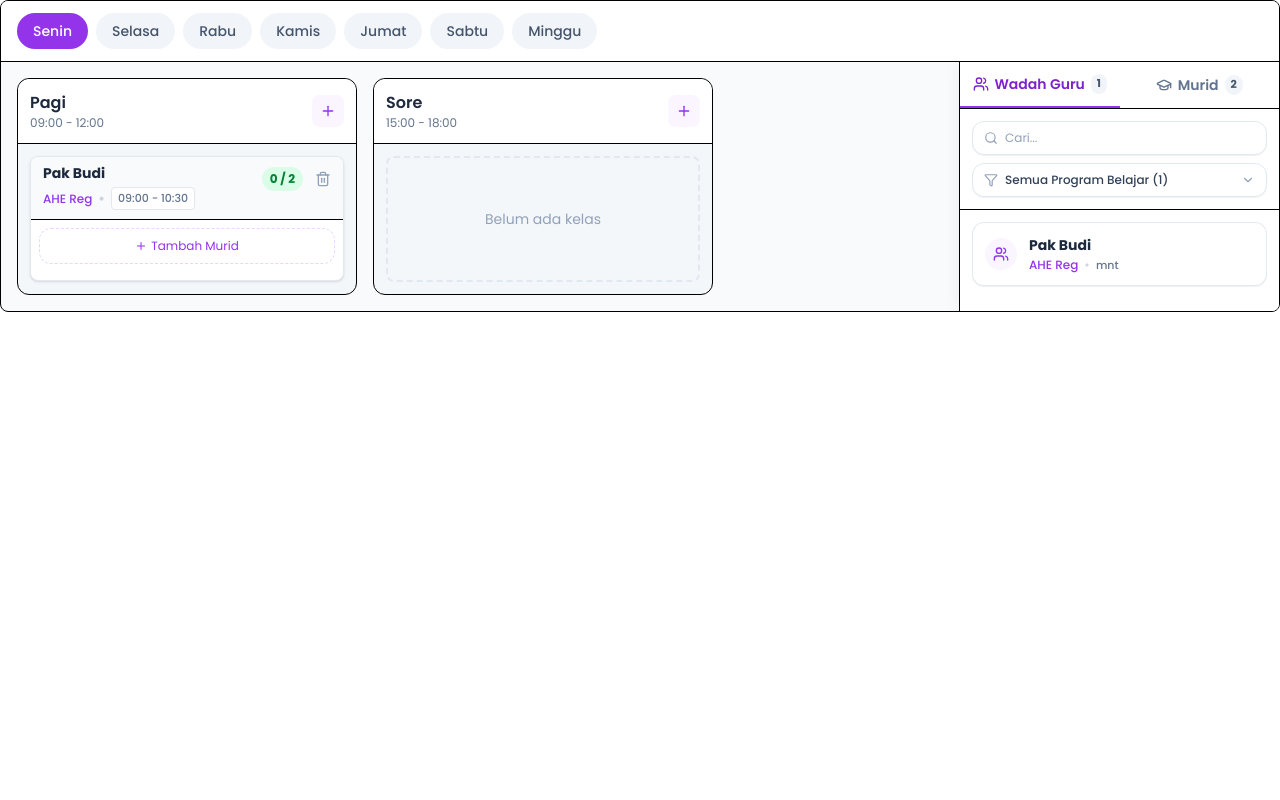
KanbanBoard Component › opens AddStudentModal when Tambah Murid is clicked on a class
// Click it
What coordinates should you click on to do the following:
click the button "Tambah Murid"
I would click on:
 (187, 246)
Its box is x1=39 y1=228 x2=335 y2=264.
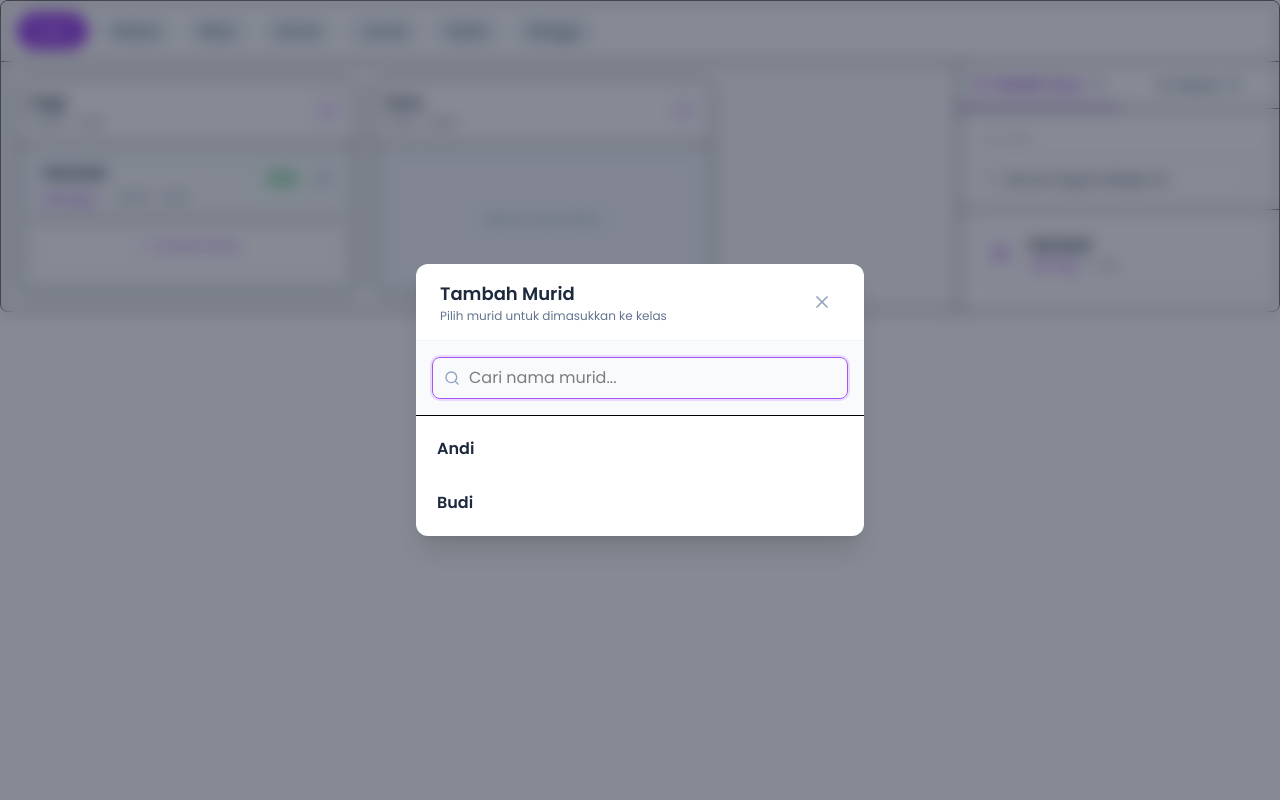
Check: the text "Pilih murid untuk dimasukkan ke kelas" is shown, box x1=440 y1=308 x2=667 y2=324
Check: the text "Andi" is shown, box x1=437 y1=437 x2=474 y2=461
Check: the text "Budi" is shown, box x1=437 y1=491 x2=473 y2=515
